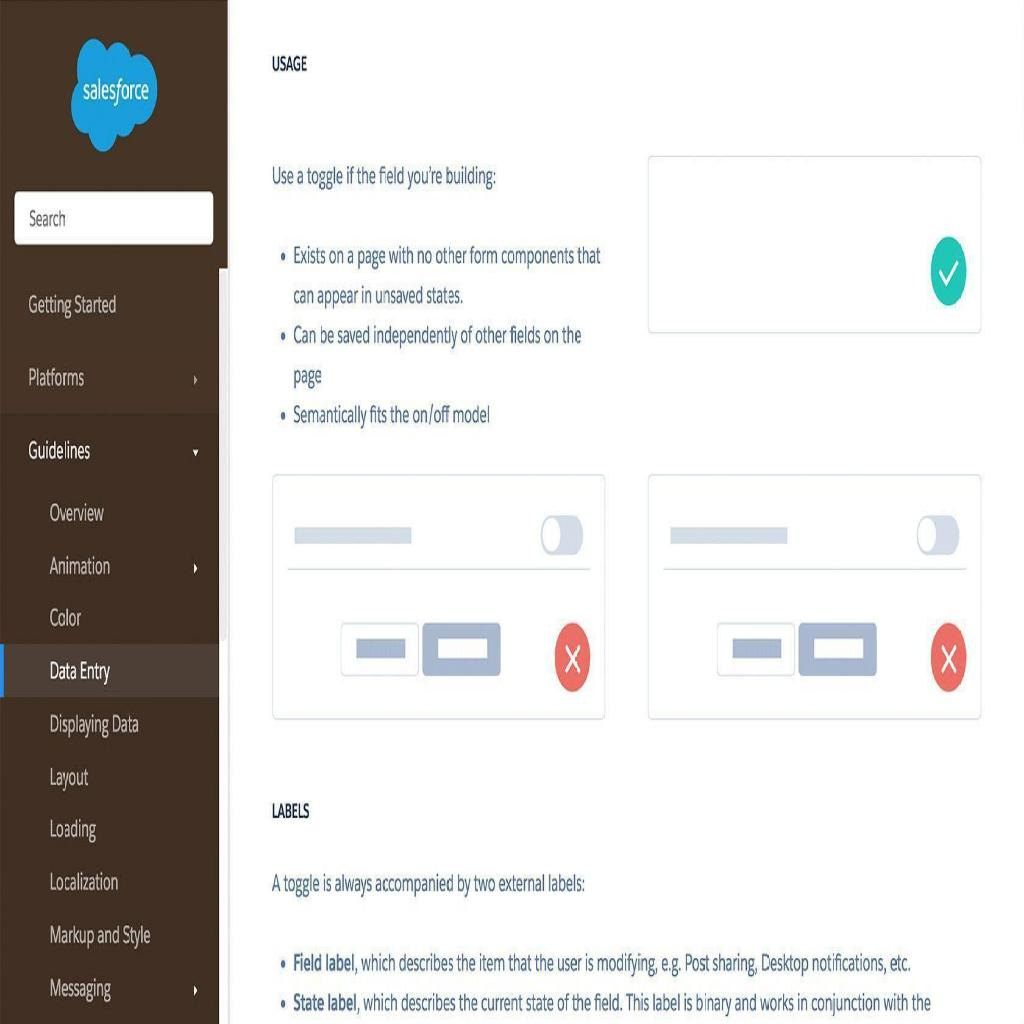button: (422, 619, 502, 680), (340, 620, 420, 679), (798, 623, 878, 676), (718, 625, 796, 678)
checkbox: (548, 615, 597, 703), (928, 622, 969, 696), (931, 234, 967, 308)
input: (13, 189, 214, 242)
switch: (534, 508, 590, 560), (915, 509, 965, 562)
